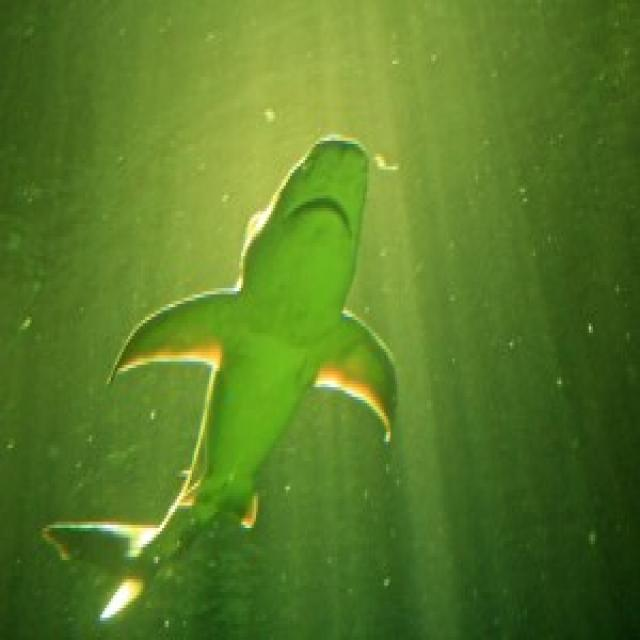Shark: (32, 129, 399, 640)
